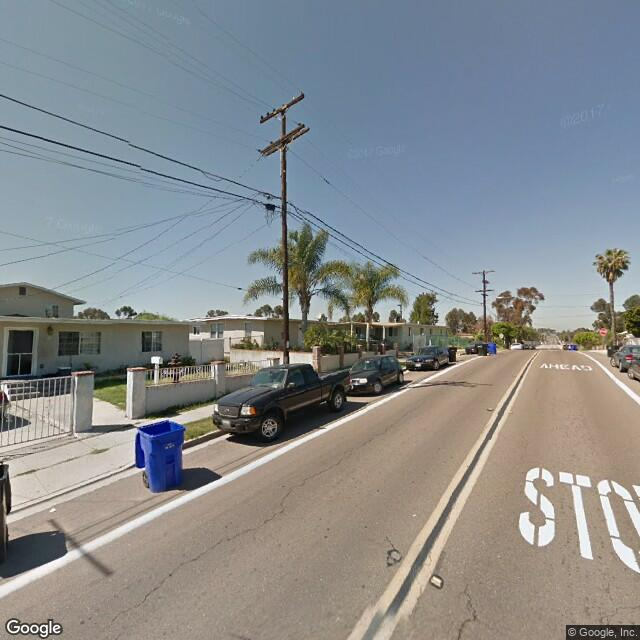litter: (46, 503, 61, 514)
